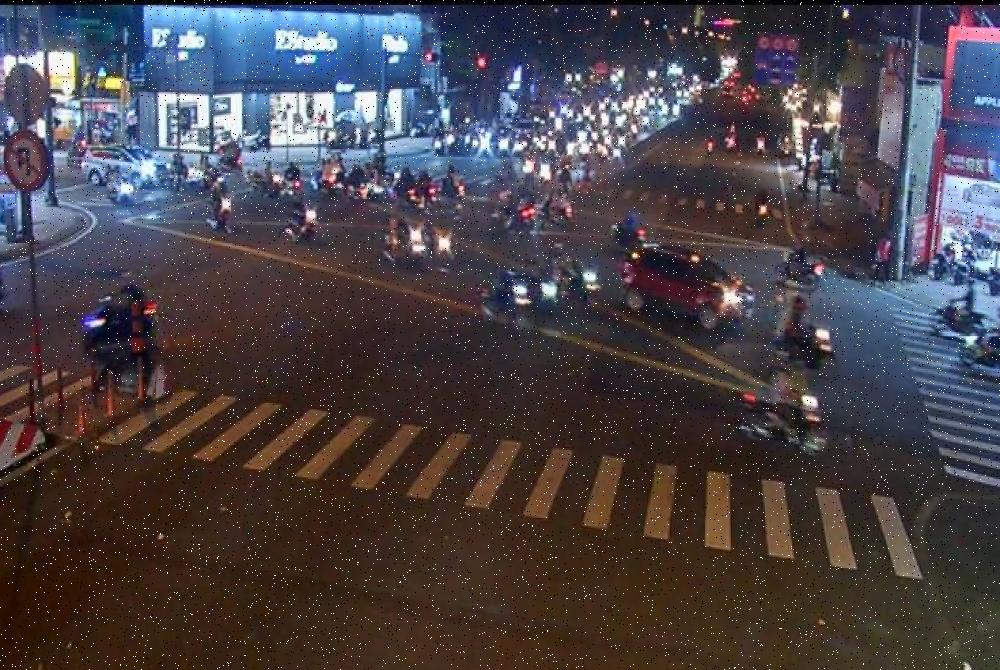car: (616, 231, 758, 340)
